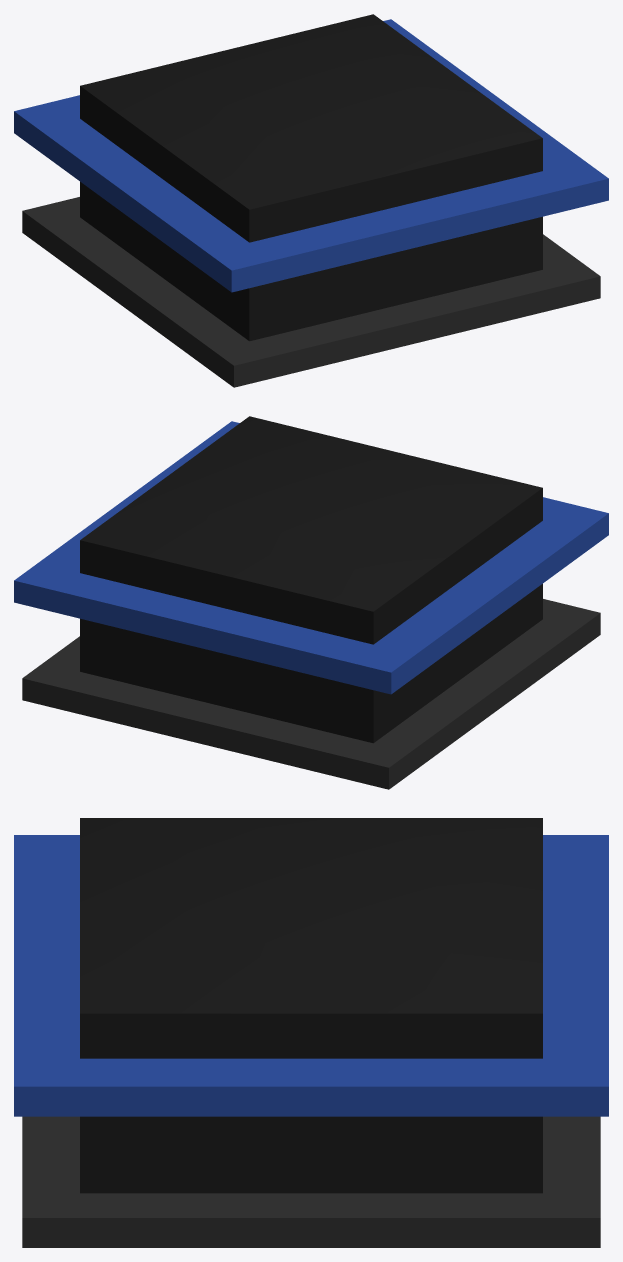
Rendered from Wall.dae.
3 views of the same model, one above another, from view 1: azimuth 30°, elevation 25°; view 2: azimuth 150°, elevation 25°; view 3: azimuth 270°, elevation 25° (orthographic). The views are drawn at different scales.
Visible parts, largest first — view 1: Box, Box_4, Box_1; view 2: Box, Box_4, Box_1; view 3: Box, Box_4, Box_1.
Part boxes in pixels (x1,y1,x2,y2): Box: (80, 14, 542, 341); Box_4: (14, 19, 608, 292); Box_1: (22, 197, 600, 387); Box: (80, 416, 542, 743); Box_4: (14, 421, 608, 694); Box_1: (22, 599, 600, 789); Box: (80, 818, 542, 1193); Box_4: (14, 835, 608, 1116); Box_1: (22, 1116, 600, 1247).
Bounding box in the file's own units: 1.8 × 0.7836 × 1.8.
